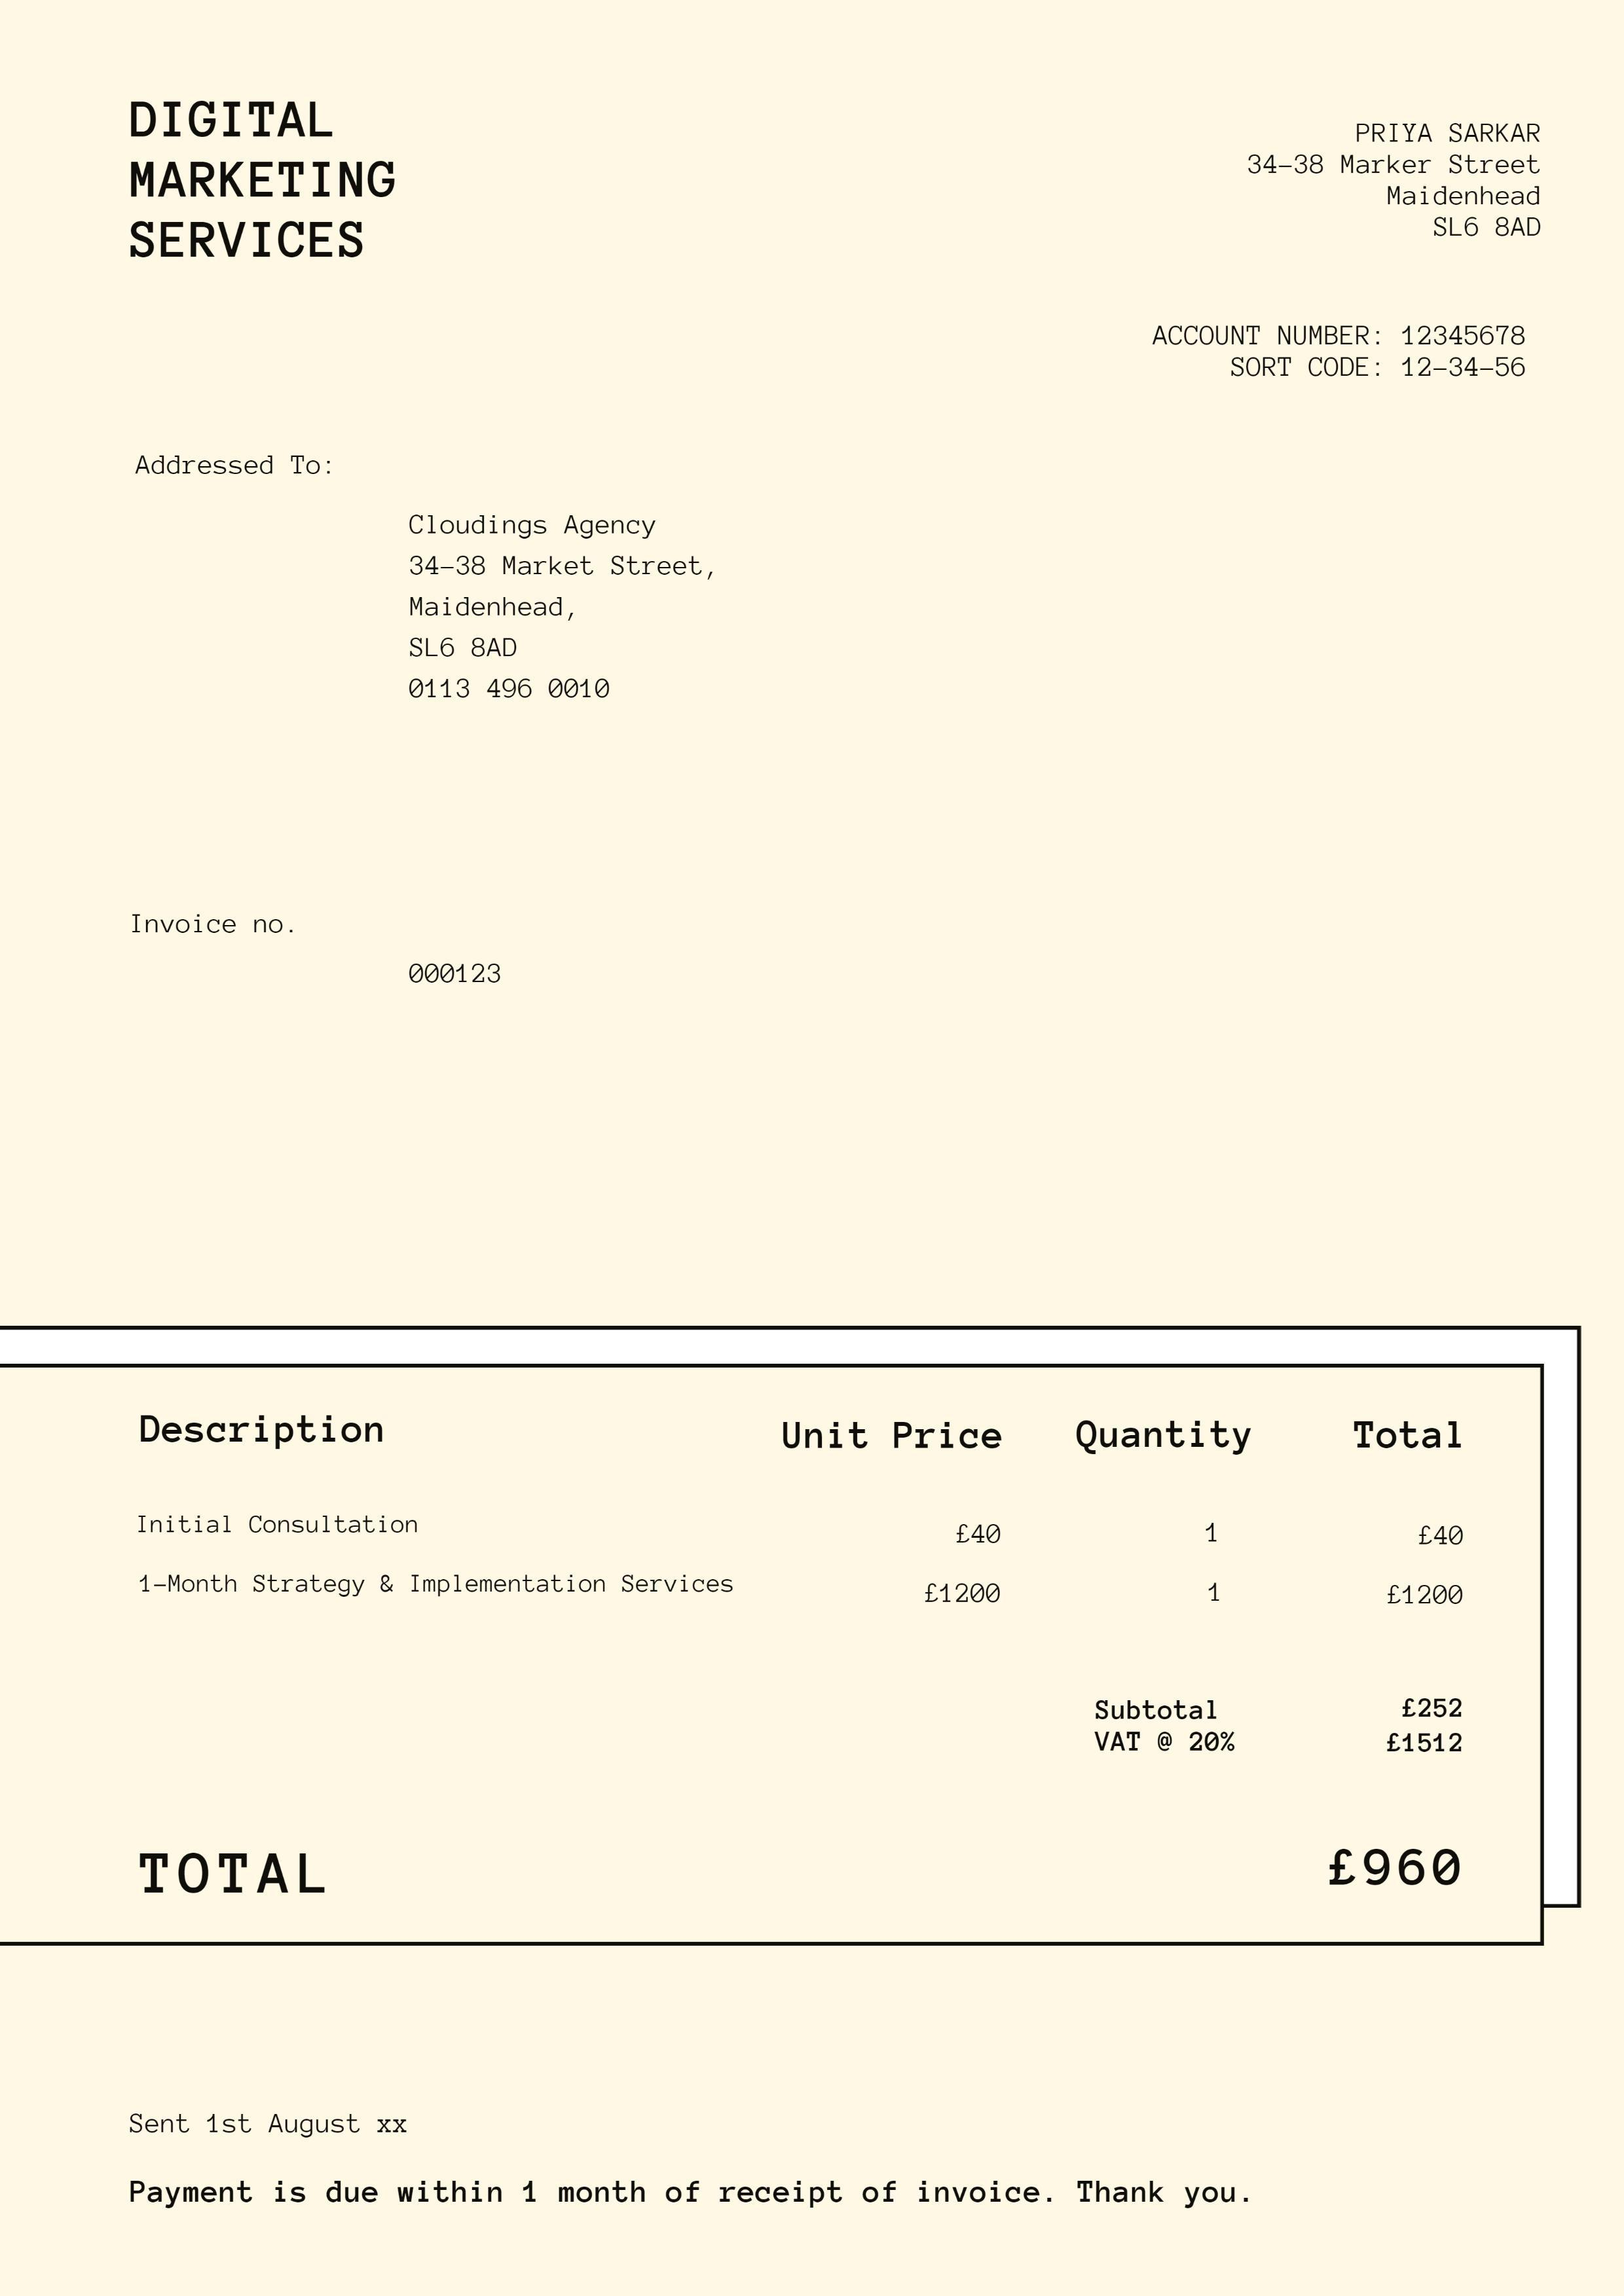ROI: (121, 1681, 1499, 1924), (130, 1398, 1483, 1630), (116, 90, 1552, 271), (128, 444, 735, 717), (121, 2161, 1394, 2220), (1137, 314, 1548, 408), (116, 906, 543, 993)
